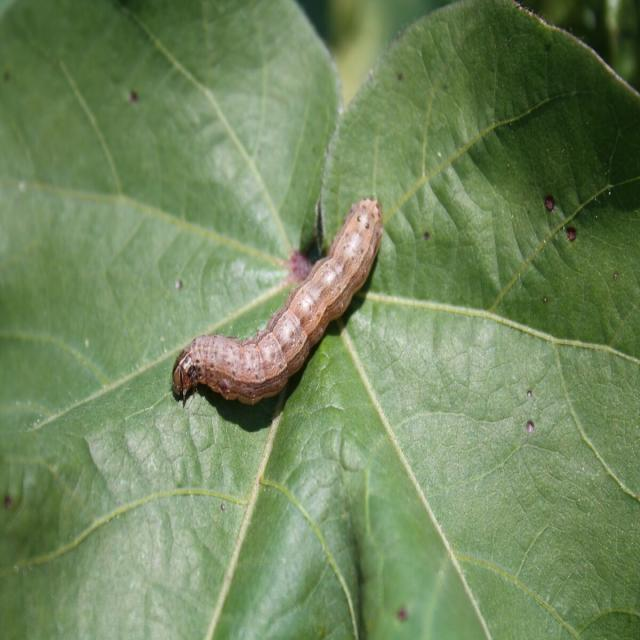Army worm: (2, 2, 636, 637), (169, 193, 385, 411)
Cotton Ball Rot: (541, 191, 559, 219), (561, 222, 580, 248)
